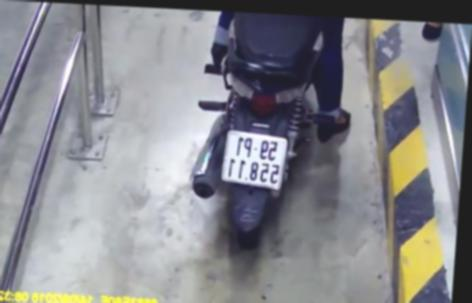License_Plate: (220, 130, 290, 191)
